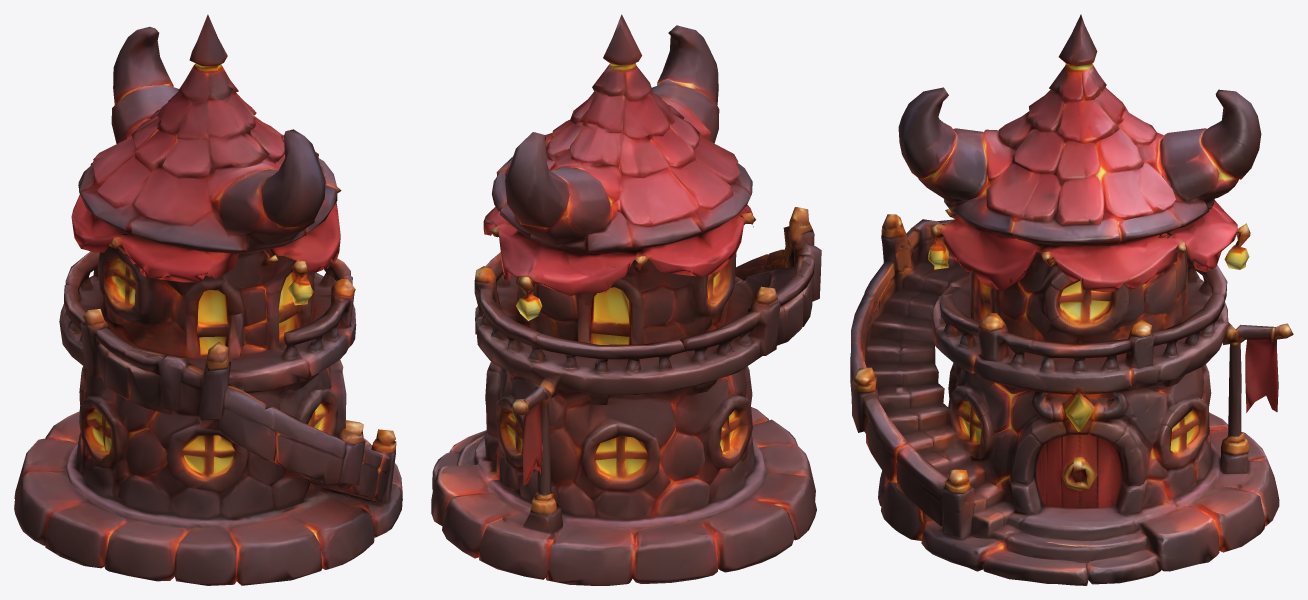
Rendered from Town_Horns_HouseB_raw.glb.
The picture shows the model from 3 angles, left to right: view 1: azimuth 30°, elevation 25°; view 2: azimuth 150°, elevation 25°; view 3: azimuth 270°, elevation 25°; orthographic projection.
Parts seen in each view (by area): view 1: tripo_node_355b647d-4a93-4ec0-b52b-9f039265acdf; view 2: tripo_node_355b647d-4a93-4ec0-b52b-9f039265acdf; view 3: tripo_node_355b647d-4a93-4ec0-b52b-9f039265acdf.
Part boxes in pixels (x1=…): tripo_node_355b647d-4a93-4ec0-b52b-9f039265acdf: x1=14, y1=14, x2=402, y2=585; tripo_node_355b647d-4a93-4ec0-b52b-9f039265acdf: x1=431, y1=14, x2=821, y2=585; tripo_node_355b647d-4a93-4ec0-b52b-9f039265acdf: x1=850, y1=14, x2=1293, y2=585.
Size of the model in its own units: 0.7352 by 1 by 0.8225.
Materials: 1 (1 with a texture image).
